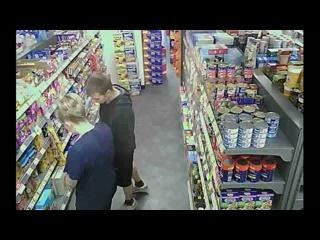Normal: (84, 73, 138, 210), (57, 93, 117, 210)
